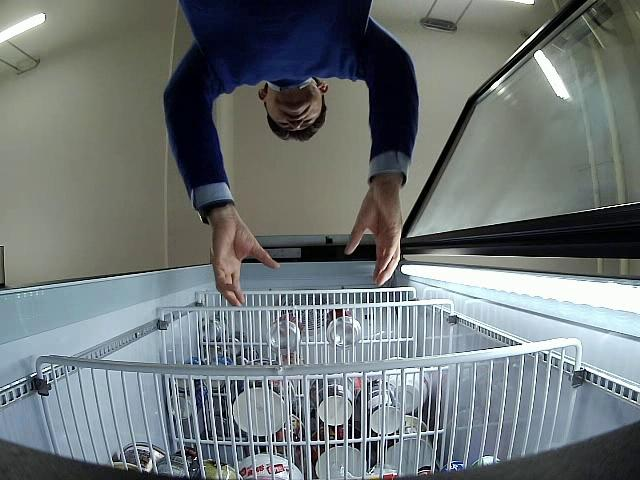00_hand: (209, 215, 279, 306), (347, 184, 402, 285)
